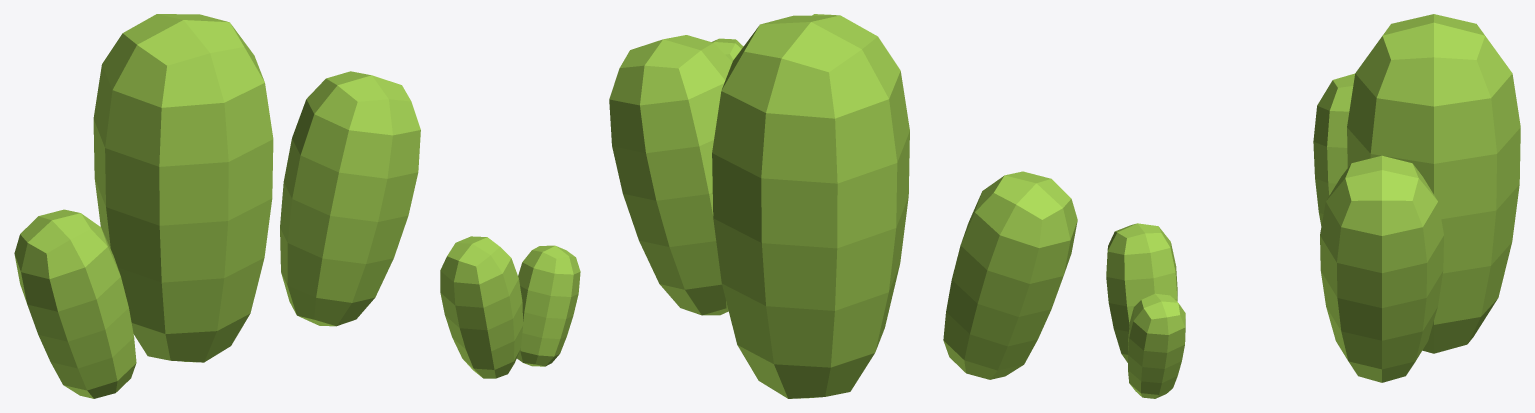
File: Grass2.fbx
3 views of the same model, side by side, from view 1: azimuth 30°, elevation 25°; view 2: azimuth 150°, elevation 25°; view 3: azimuth 270°, elevation 25° (orthographic). The views are drawn at different scales.
Parts seen in each view (by area): view 1: Cube.112, Cube.111, Cube.113, Cube.114, Cube.115; view 2: Cube.112, Cube.111, Cube.113, Cube.115; view 3: Cube.112, Cube.111, Cube.114, Cube.115, Cube.113.
Part boxes in pixels (<box>): Cube.112: <box>93,14,273,362</box>; Cube.111: <box>280,71,420,326</box>; Cube.113: <box>14,209,136,398</box>; Cube.114: <box>440,236,523,378</box>; Cube.115: <box>517,245,580,366</box>; Cube.112: <box>712,15,909,398</box>; Cube.111: <box>609,35,732,315</box>; Cube.113: <box>943,171,1077,379</box>; Cube.115: <box>712,38,743,61</box>; Cube.112: <box>1347,14,1520,353</box>; Cube.111: <box>1320,155,1443,382</box>; Cube.114: <box>1106,223,1177,362</box>; Cube.115: <box>1128,293,1185,398</box>; Cube.113: <box>1313,73,1355,225</box>.
Bounding box in the file's own units: 0.6218 × 0.5204 × 0.4545.
